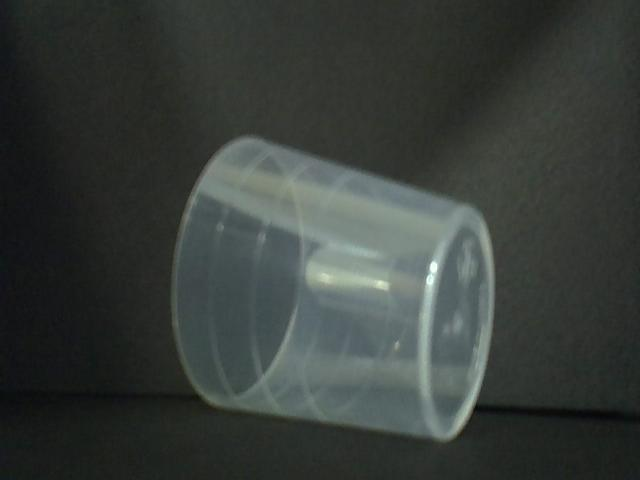cup: (168, 126, 500, 446)
